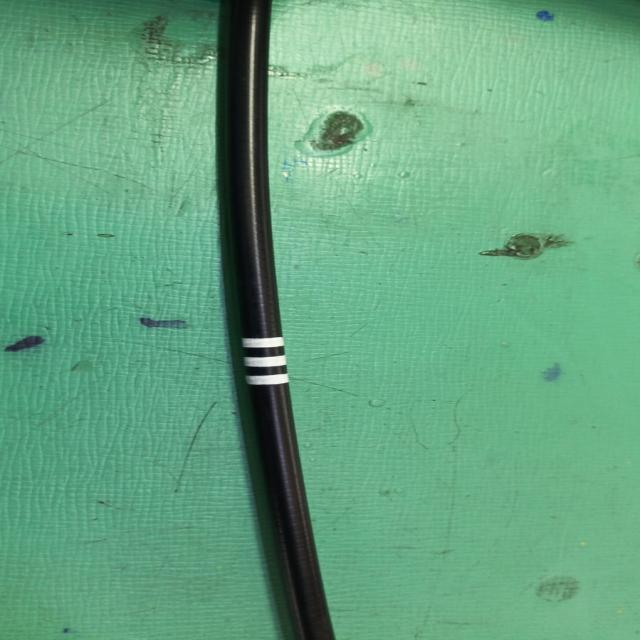white: (244, 337, 288, 386)
